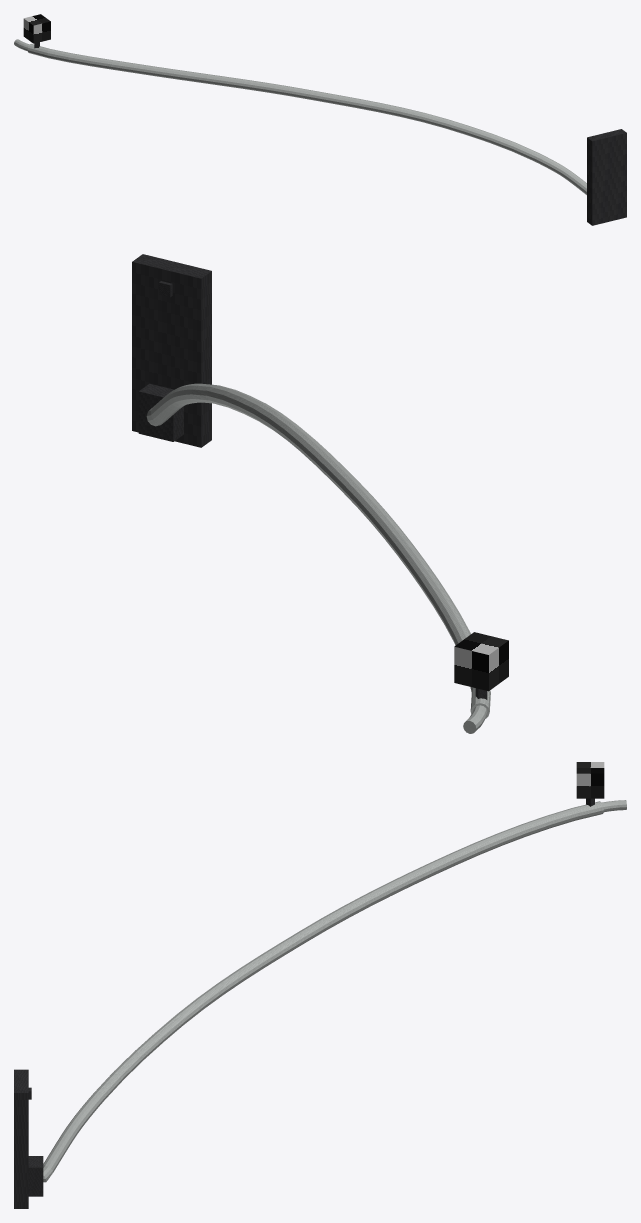
Rendered from arm_6_left.obj.
The picture shows the model from 3 angles, top to bottom: view 1: azimuth 30°, elevation 25°; view 2: azimuth 150°, elevation 25°; view 3: azimuth 270°, elevation 25°; orthographic projection. The views are drawn at different scales.
Parts seen in each view (by area): view 1: pole_light_mount_6_left; view 2: pole_light_mount_6_left; view 3: pole_light_mount_6_left.
Part boxes in pixels (<box>): pole_light_mount_6_left: <box>14,14,626,225</box>; pole_light_mount_6_left: <box>132,254,508,733</box>; pole_light_mount_6_left: <box>14,762,626,1208</box>.
Bounding box in the file's own units: 4.22 × 1.41 × 4.19.
